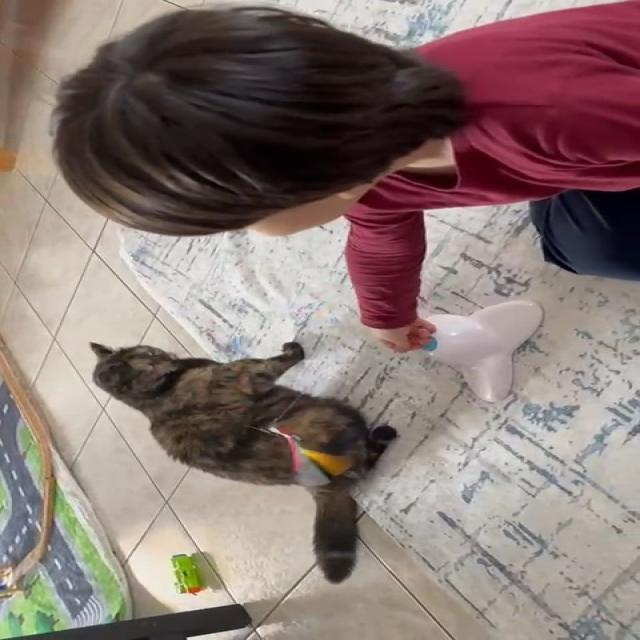authorized: (88, 340, 399, 584)
